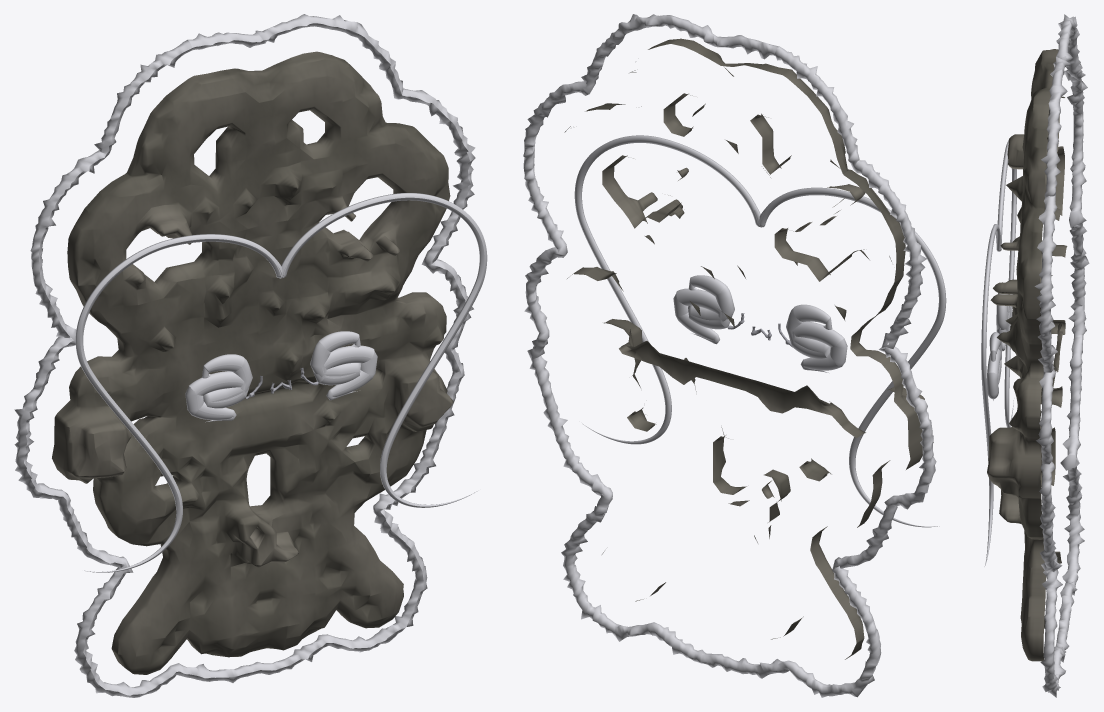
3 views of the same model, side by side, from view 1: azimuth 30°, elevation 25°; view 2: azimuth 150°, elevation 25°; view 3: azimuth 270°, elevation 25° (orthographic). The views are drawn at different scales.
Size of the model in its own units: 197 by 280 by 45.89.
Materials: 3 (1 with a texture image).
